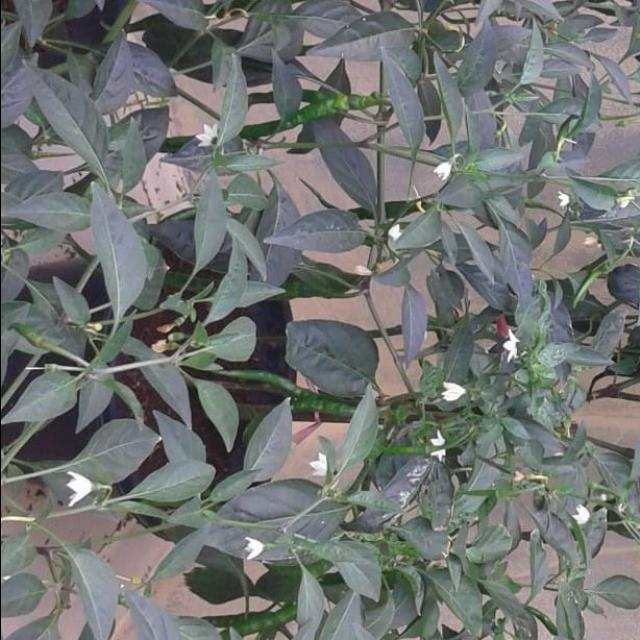sehat: (80, 180, 160, 328), (32, 64, 110, 174), (269, 202, 369, 262), (190, 171, 240, 273)
